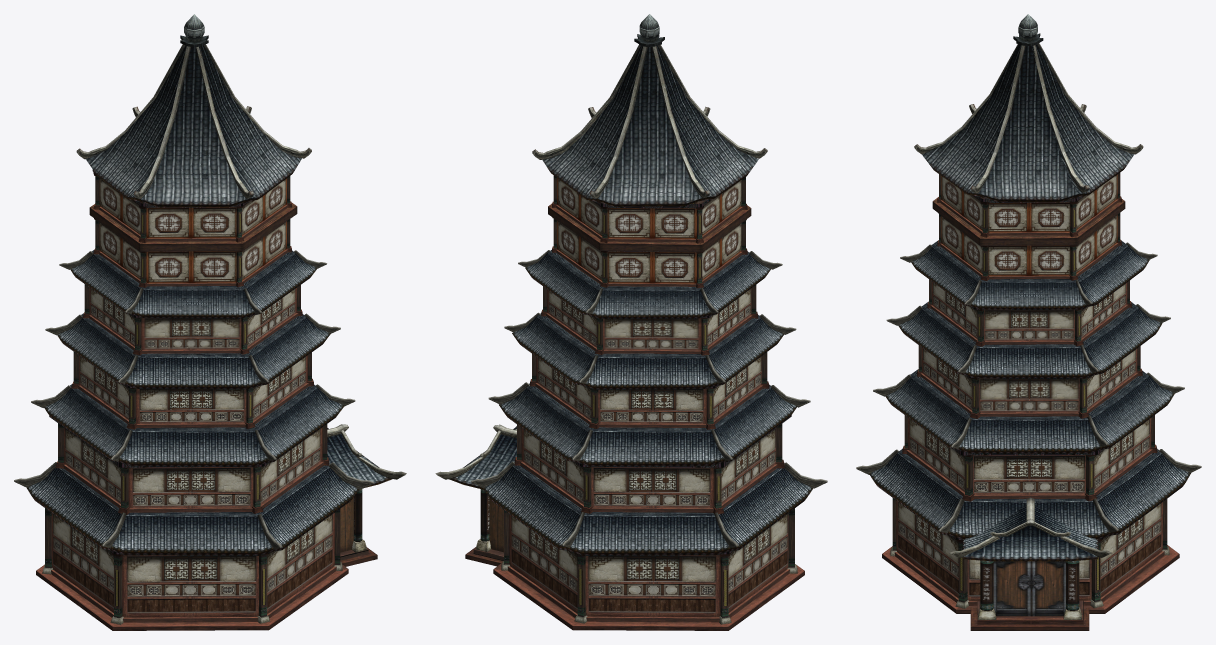
The model's file is b1-013-6tower.fbx.
3 views of the same model, side by side, from view 1: azimuth 30°, elevation 25°; view 2: azimuth 150°, elevation 25°; view 3: azimuth 270°, elevation 25° (orthographic). The views are drawn at different scales.
Visible parts, largest first — view 1: b1-013-6tower-01, b1-013-6tower-02; view 2: b1-013-6tower-01, b1-013-6tower-02; view 3: b1-013-6tower-01, b1-013-6tower-02.
Boxes of the visible parts, box(x1,y1,x2,y2) form: b1-013-6tower-01: box(45, 14, 377, 618); b1-013-6tower-02: box(14, 170, 406, 630); b1-013-6tower-01: box(465, 14, 794, 618); b1-013-6tower-02: box(435, 199, 827, 630); b1-013-6tower-01: box(892, 14, 1167, 630); b1-013-6tower-02: box(856, 196, 1201, 624).
Bounding box in the file's own units: 15.6 × 27.14 × 15.61.
